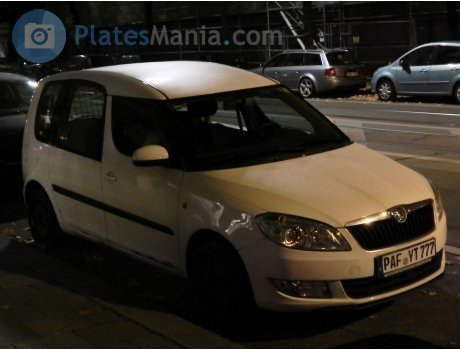License Plates: (384, 240, 434, 269), (418, 221, 423, 226), (390, 247, 395, 251), (395, 248, 399, 253)
